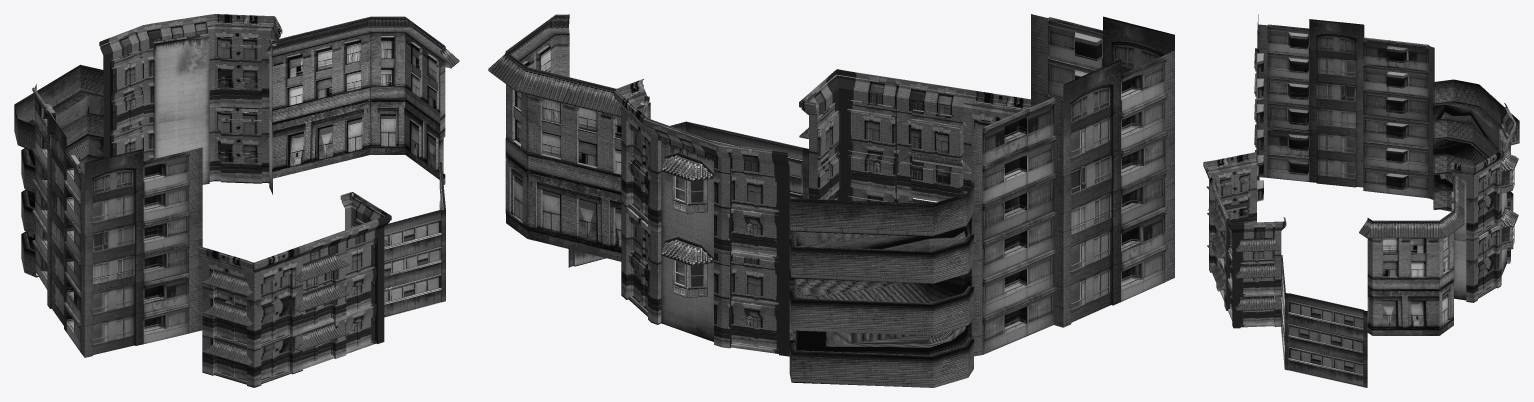
The model's file is chinatown_block_2.fbx.
3 renders of one model, left to right at view 1: azimuth 30°, elevation 25°; view 2: azimuth 150°, elevation 25°; view 3: azimuth 270°, elevation 25°, orthographic. The views are drawn at different scales.
Parts seen in each view (by area): view 1: chinatown_building_3, chinatown_building_1, chinatown_building_5, chinatown_building_4, chinatown_building_2, chinatown_building_6; view 2: chinatown_building_3, chinatown_building_1, chinatown_building_2, chinatown_building_5, chinatown_building_4, chinatown_building_6; view 3: chinatown_building_3, chinatown_building_5, chinatown_building_4, chinatown_building_1, chinatown_building_6, chinatown_building_2.
Boxes of the visible parts, x1,y1,x2,y2 form: chinatown_building_3: (32, 84, 202, 357); chinatown_building_1: (99, 14, 282, 194); chinatown_building_5: (266, 16, 459, 184); chinatown_building_4: (198, 192, 391, 387); chinatown_building_2: (14, 64, 103, 277); chinatown_building_6: (384, 162, 445, 317); chinatown_building_3: (971, 14, 1174, 356); chinatown_building_1: (613, 79, 789, 356); chinatown_building_2: (789, 181, 973, 387); chinatown_building_5: (488, 14, 649, 261); chinatown_building_4: (799, 69, 1030, 203); chinatown_building_6: (568, 121, 808, 267); chinatown_building_3: (1254, 14, 1434, 201); chinatown_building_5: (1359, 172, 1464, 335); chinatown_building_4: (1203, 152, 1286, 328); chinatown_building_1: (1450, 103, 1518, 302); chinatown_building_6: (1281, 255, 1367, 387); chinatown_building_2: (1433, 79, 1519, 249).
Bounding box in the file's own units: 3971 × 2088 × 2962.
